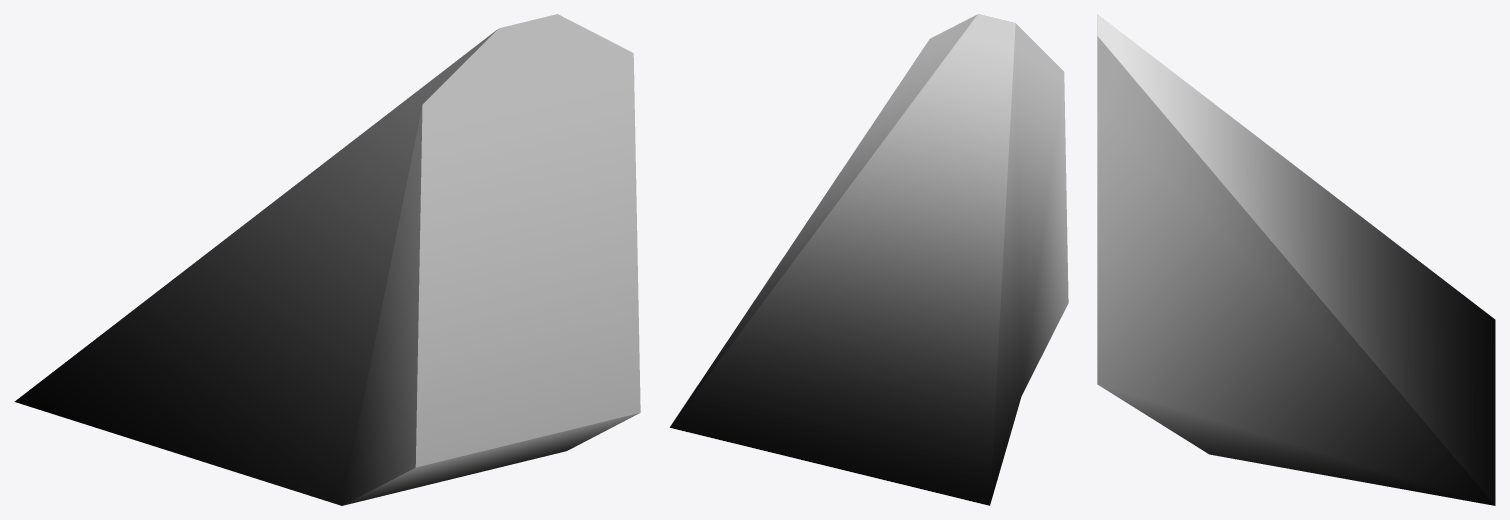
The model's file is godrays.fbx.
3 views of the same model, side by side, from view 1: azimuth 30°, elevation 25°; view 2: azimuth 150°, elevation 25°; view 3: azimuth 270°, elevation 25° (orthographic). The views are drawn at different scales.
Parts seen in each view (by area): view 1: godrays; view 2: godrays; view 3: godrays.
Boxes of the visible parts, box(x1,y1,x2,y2) form: godrays: box(14, 14, 640, 505); godrays: box(669, 14, 1068, 505); godrays: box(1097, 14, 1495, 505).
Size of the model in its own units: 537 by 521 by 485.
